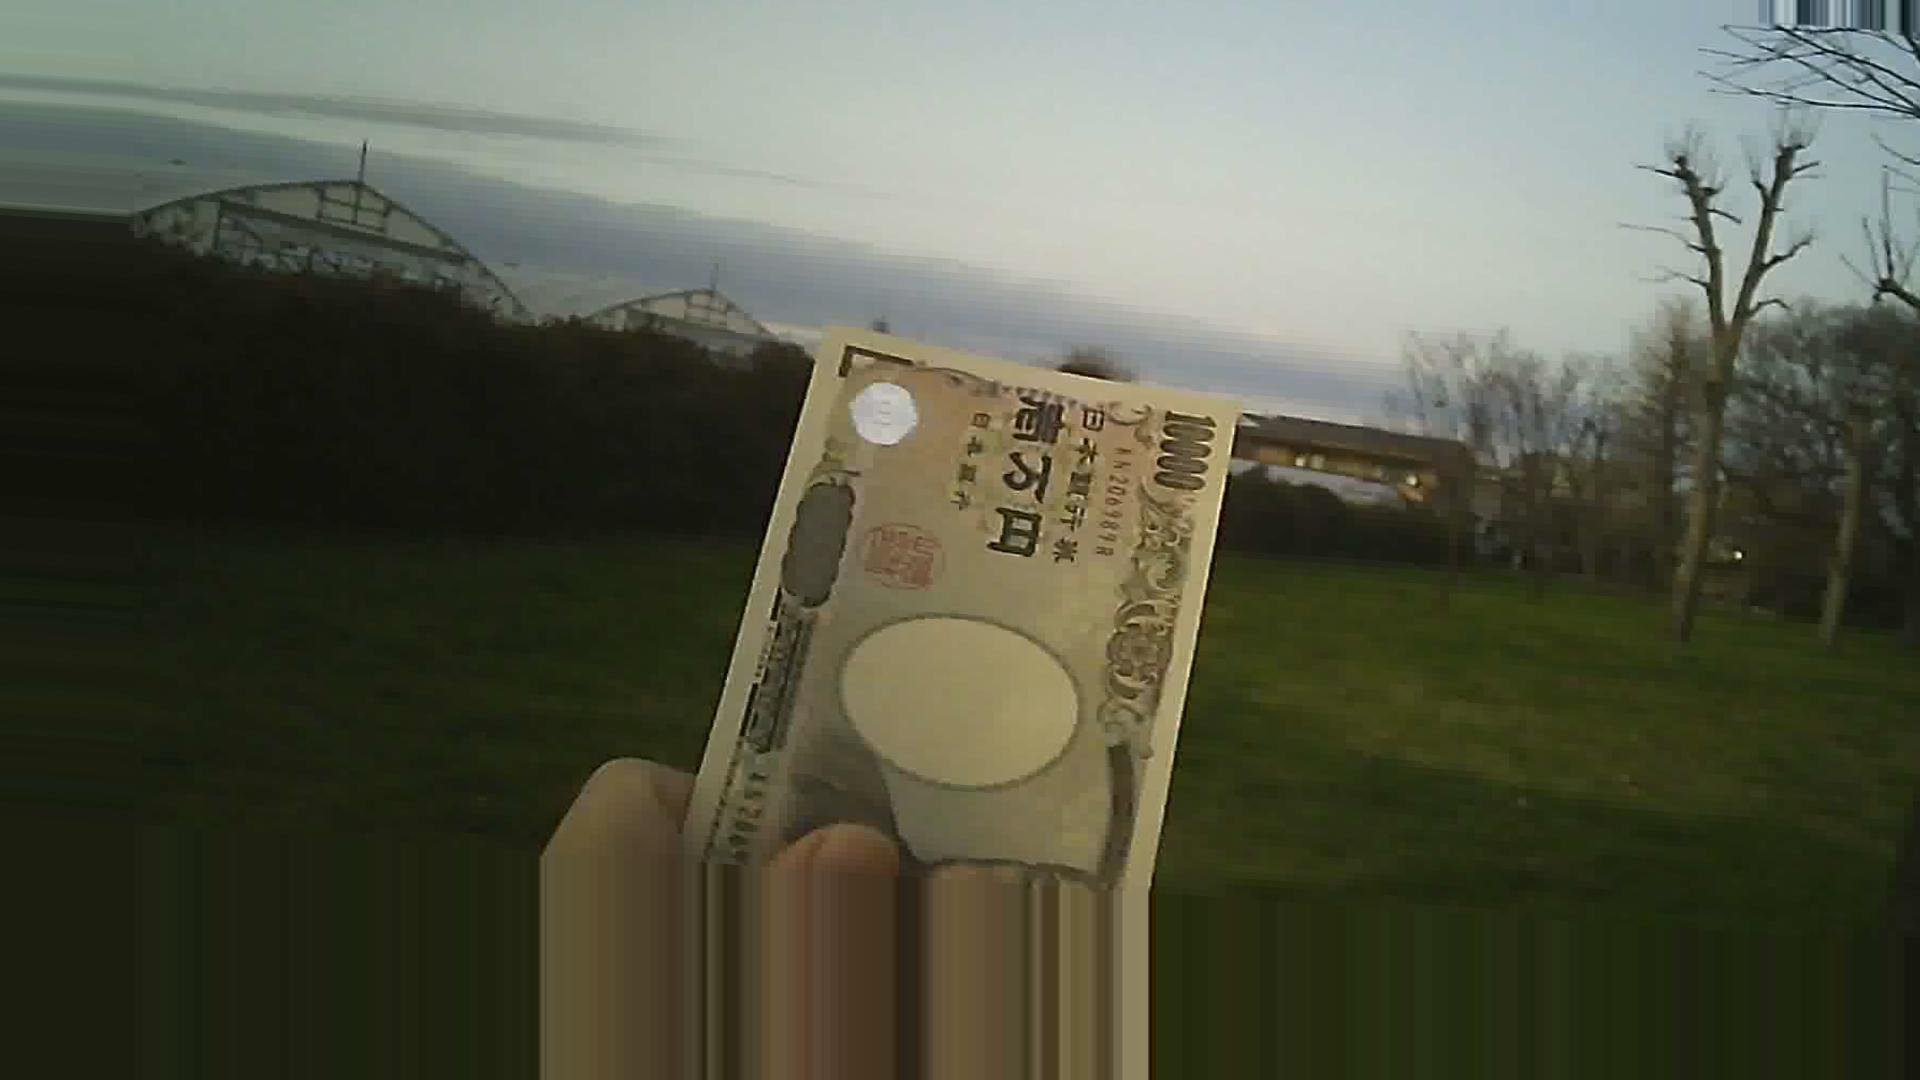10,000 Yen: (659, 303, 1234, 897)
